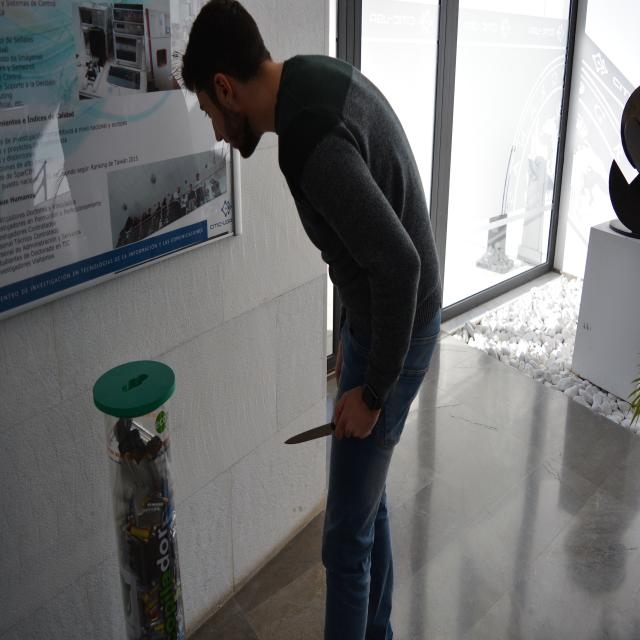knife: (284, 421, 339, 456)
